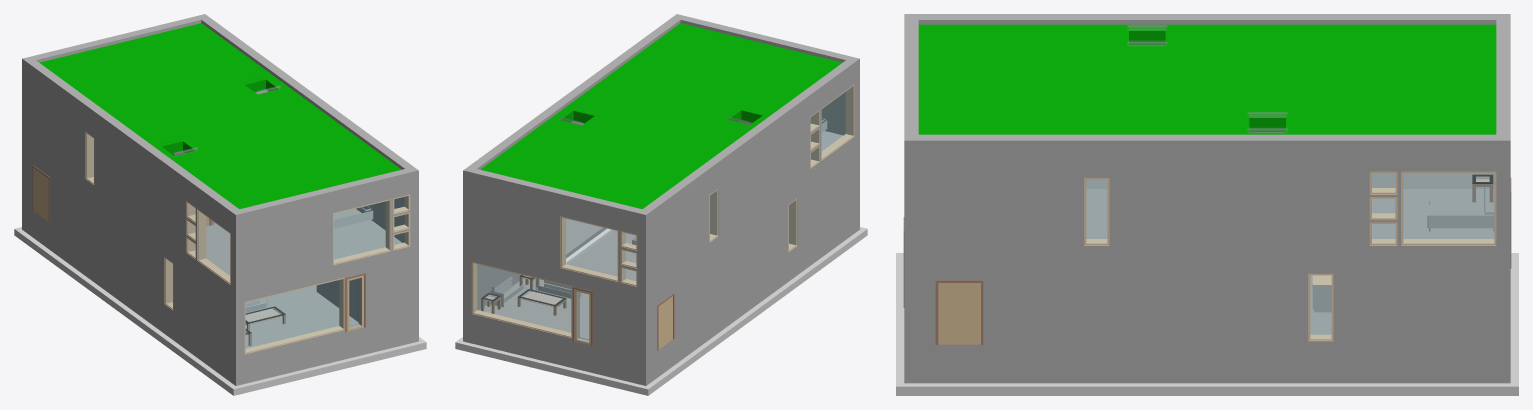
3 views of the same model, side by side, from view 1: azimuth 30°, elevation 25°; view 2: azimuth 150°, elevation 25°; view 3: azimuth 270°, elevation 25° (orthographic). The views are drawn at different scales.
Visible parts, largest first — view 1: 09g7Eo3WDEihdnsYS1YDoI, 2O2Fr$t4X7Zf8NOew3FNhv, 2O2Fr$t4X7Zf8NOew3FLPP, 2O2Fr$t4X7Zf8NOew3FLOH, 2O2Fr$t4X7Zf8NOew3FNr2, 2O2Fr$t4X7Zf8NOew3FKE5, 2O2Fr$t4X7Zf8NOew3FKEr, 0jf0rYHfX3RAB3bSIRjmr1, 2OBrcmyk58NupXoVOHUtxr, 0jf0rYHfX3RAB3bSIRjmoa, 0jf0rYHfX3RAB3bSIRjmpw, 0kF45Qs8L9PAM9kmb1lT5t (+16 smaller); view 2: 09g7Eo3WDEihdnsYS1YDoI, 2O2Fr$t4X7Zf8NOew3FNhv, 2O2Fr$t4X7Zf8NOew3FLPP, 2O2Fr$t4X7Zf8NOew3FLQD, 2O2Fr$t4X7Zf8NOew3FNtn, 2O2Fr$t4X7Zf8NOew3FKE5, 2O2Fr$t4X7Zf8NOew3FK80, 0jf0rYHfX3RAB3bSIRjmr1, 0jf0rYHfX3RAB3bSIRjmmy, 0kF45Qs8L9PAM9kmb1lT5t, 2OBrcmyk58NupXoVOHUtgP, 0jf0rYHfX3RAB3bSIRjmpw (+16 smaller); view 3: 09g7Eo3WDEihdnsYS1YDoI, 2O2Fr$t4X7Zf8NOew3FNqI, 2O2Fr$t4X7Zf8NOew3FLR9, 2O2Fr$t4X7Zf8NOew3FK9N, 0jf0rYHfX3RAB3bSIRjmpw, 0kF45Qs8L9PAM9kmb1lT5d, 0jf0rYHfX3RAB3bSIRjmr1, 2OBrcmyk58NupXoVOHUtDX, 1hOSvn6df7F8_7GcBWlRGQ, 0jf0rYHfX3RAB3bSIRjmmy, 0jf0rYHfX3RAB3bSIRjmoa, 2O2Fr$t4X7Zf8NOew3FKau (+11 smaller).
Part boxes in pixels (bbox=[...]): 09g7Eo3WDEihdnsYS1YDoI: bbox=[39, 23, 401, 209]; 2O2Fr$t4X7Zf8NOew3FNhv: bbox=[27, 139, 230, 354]; 2O2Fr$t4X7Zf8NOew3FLPP: bbox=[22, 72, 235, 291]; 2O2Fr$t4X7Zf8NOew3FLOH: bbox=[236, 183, 418, 291]; 2O2Fr$t4X7Zf8NOew3FNr2: bbox=[231, 249, 410, 358]; 2O2Fr$t4X7Zf8NOew3FKE5: bbox=[27, 206, 230, 382]; 2O2Fr$t4X7Zf8NOew3FKEr: bbox=[231, 316, 410, 385]; 0jf0rYHfX3RAB3bSIRjmr1: bbox=[27, 60, 238, 224]; 2OBrcmyk58NupXoVOHUtxr: bbox=[245, 285, 358, 348]; 0jf0rYHfX3RAB3bSIRjmoa: bbox=[231, 169, 410, 228]; 0jf0rYHfX3RAB3bSIRjmpw: bbox=[201, 17, 418, 185]; 0kF45Qs8L9PAM9kmb1lT5t: bbox=[14, 227, 227, 387]; 09g7Eo3WDEihdnsYS1YDoI: bbox=[480, 23, 842, 209]; 2O2Fr$t4X7Zf8NOew3FNhv: bbox=[651, 139, 854, 354]; 2O2Fr$t4X7Zf8NOew3FLPP: bbox=[646, 72, 859, 291]; 2O2Fr$t4X7Zf8NOew3FLQD: bbox=[463, 183, 645, 291]; 2O2Fr$t4X7Zf8NOew3FNtn: bbox=[463, 247, 650, 358]; 2O2Fr$t4X7Zf8NOew3FKE5: bbox=[651, 206, 854, 382]; 2O2Fr$t4X7Zf8NOew3FK80: bbox=[463, 314, 650, 385]; 0jf0rYHfX3RAB3bSIRjmr1: bbox=[643, 60, 854, 224]; 0jf0rYHfX3RAB3bSIRjmmy: bbox=[463, 167, 650, 228]; 0kF45Qs8L9PAM9kmb1lT5t: bbox=[629, 235, 856, 395]; 2OBrcmyk58NupXoVOHUtgP: bbox=[479, 278, 589, 339]; 0jf0rYHfX3RAB3bSIRjmpw: bbox=[468, 14, 684, 169]; 09g7Eo3WDEihdnsYS1YDoI: bbox=[918, 24, 1496, 134]; 2O2Fr$t4X7Zf8NOew3FNqI: bbox=[904, 249, 1496, 344]; 2O2Fr$t4X7Zf8NOew3FLR9: bbox=[904, 159, 1510, 248]; 2O2Fr$t4X7Zf8NOew3FK9N: bbox=[904, 344, 1496, 383]; 0jf0rYHfX3RAB3bSIRjmpw: bbox=[904, 134, 1496, 159]; 0kF45Qs8L9PAM9kmb1lT5d: bbox=[896, 373, 1518, 395]; 0jf0rYHfX3RAB3bSIRjmr1: bbox=[918, 14, 1496, 24]; 2OBrcmyk58NupXoVOHUtDX: bbox=[1372, 189, 1494, 238]; 1hOSvn6df7F8_7GcBWlRGQ: bbox=[935, 280, 983, 344]; 0jf0rYHfX3RAB3bSIRjmmy: bbox=[1496, 14, 1510, 159]; 0jf0rYHfX3RAB3bSIRjmoa: bbox=[904, 14, 918, 134]; 2O2Fr$t4X7Zf8NOew3FKau: bbox=[1086, 173, 1494, 188].
Size of the model in its own units: 9.28 by 8.18 by 18.28.
